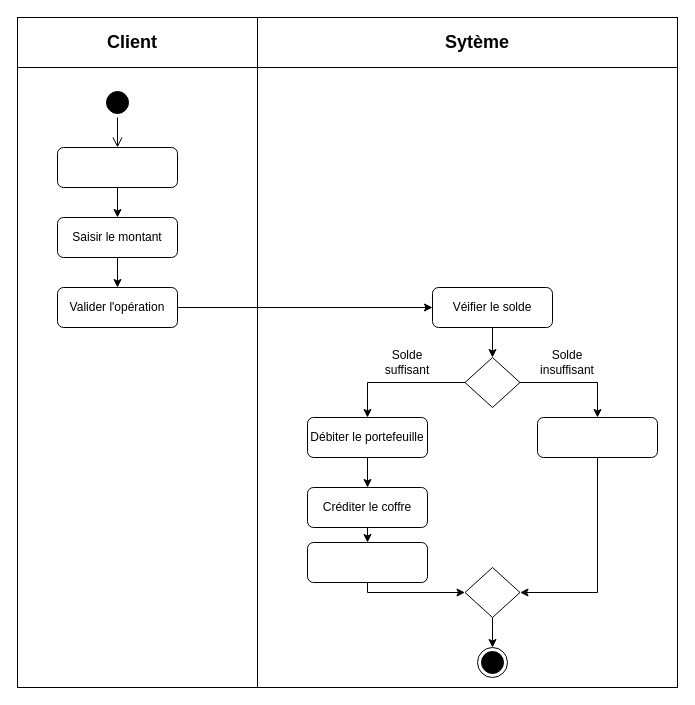
The diagram is 695 pixels wide and 705 high, and some of its shapes have lost their labels. The centre of each missing label's shape, as x and y in pixels:
"Afficher le solde insuffisant" belongs at point 597,437.
"Choisir le coffre" belongs at point 117,167.
"Enregitrer la tranaction" belongs at point 367,562.
